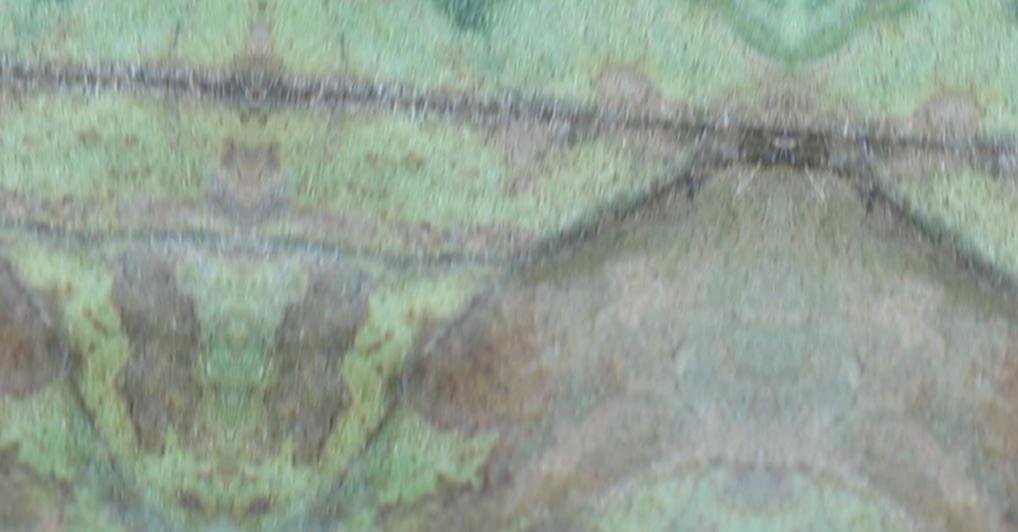Tomato leaf late blight: (206, 0, 812, 532)
